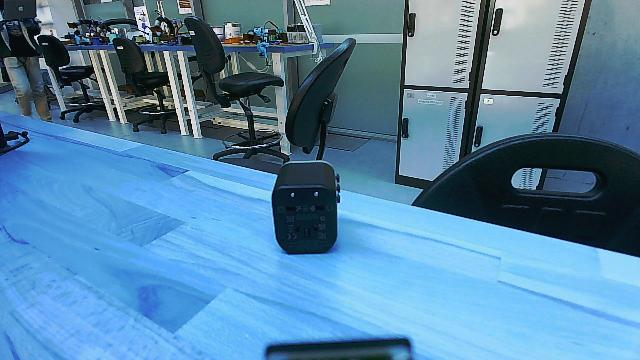adapter: (260, 157, 354, 259)
